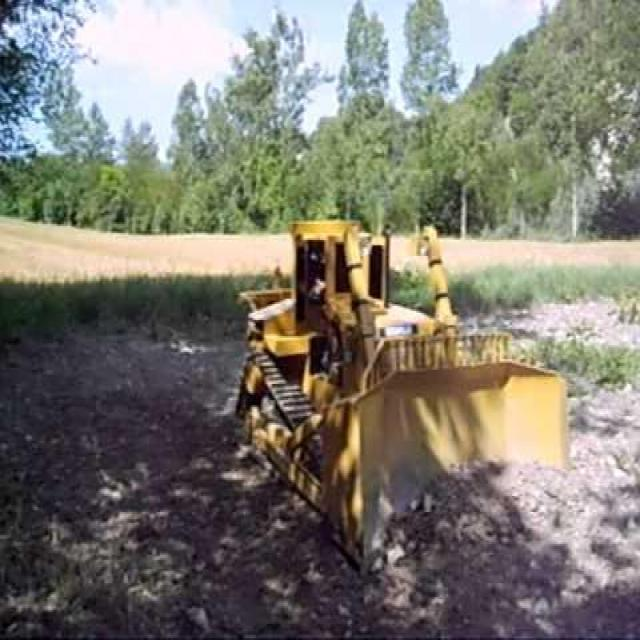Bulldozer: (214, 203, 594, 608)
